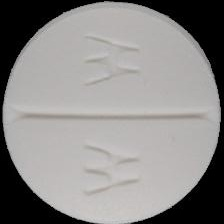0904-2151: (0, 0, 224, 224)
